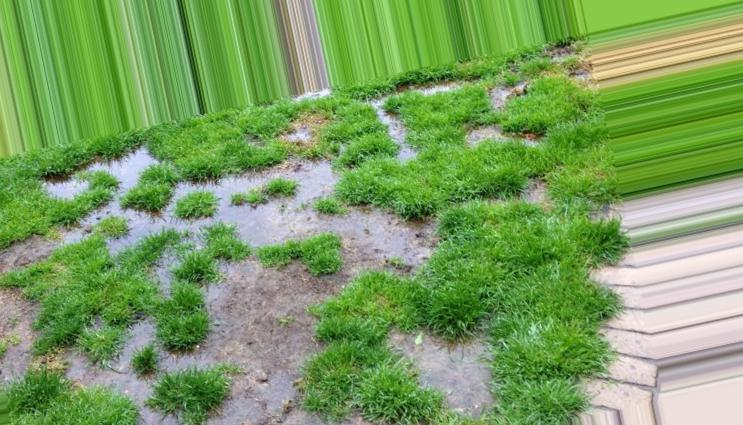patch: (228, 271, 295, 382), (424, 344, 495, 403), (347, 208, 402, 266), (291, 162, 341, 202), (235, 206, 283, 244), (122, 215, 167, 246), (101, 162, 149, 182)
